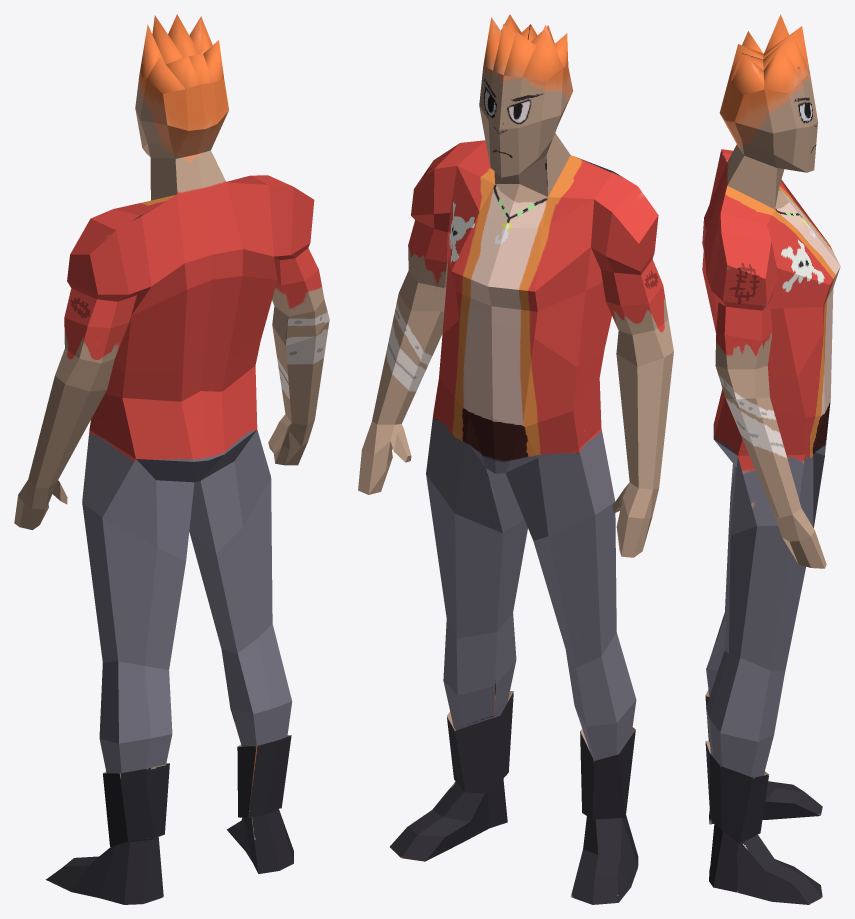
Rendered from maincharcter.fbx.
3 renders of one model, left to right at view 1: azimuth 30°, elevation 25°; view 2: azimuth 150°, elevation 25°; view 3: azimuth 270°, elevation 25°, orthographic. The views are drawn at different scales.
Parts seen in each view (by area): view 1: Cube; view 2: Cube; view 3: Cube.
Part boxes in pixels (<box>): Cube: <box>14,14,329,904</box>; Cube: <box>358,14,673,904</box>; Cube: <box>702,14,840,904</box>.
Size of the model in its own units: 0.8905 by 0.3877 by 2.55.
Materials: 1 (1 with a texture image).
